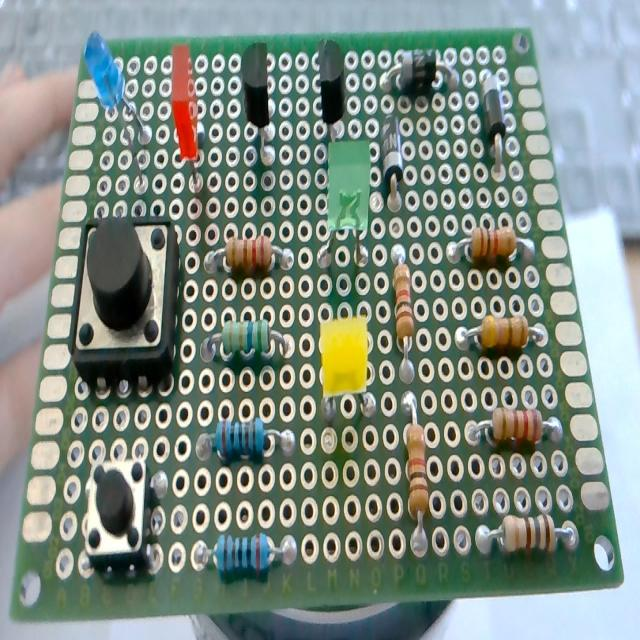diode: (475, 58, 511, 182), (376, 52, 472, 98), (378, 110, 412, 238)
led: (78, 26, 156, 183), (318, 134, 372, 275), (315, 312, 375, 426), (170, 37, 210, 203)
resistor: (194, 316, 304, 381), (468, 507, 586, 565), (190, 412, 300, 468), (185, 524, 305, 575), (439, 222, 542, 281), (195, 230, 302, 282), (399, 387, 428, 562), (465, 406, 567, 454), (452, 308, 548, 358), (387, 236, 419, 386)
switch: (68, 214, 182, 391), (73, 438, 163, 586)
transistor: (234, 42, 282, 162), (306, 37, 358, 139)
